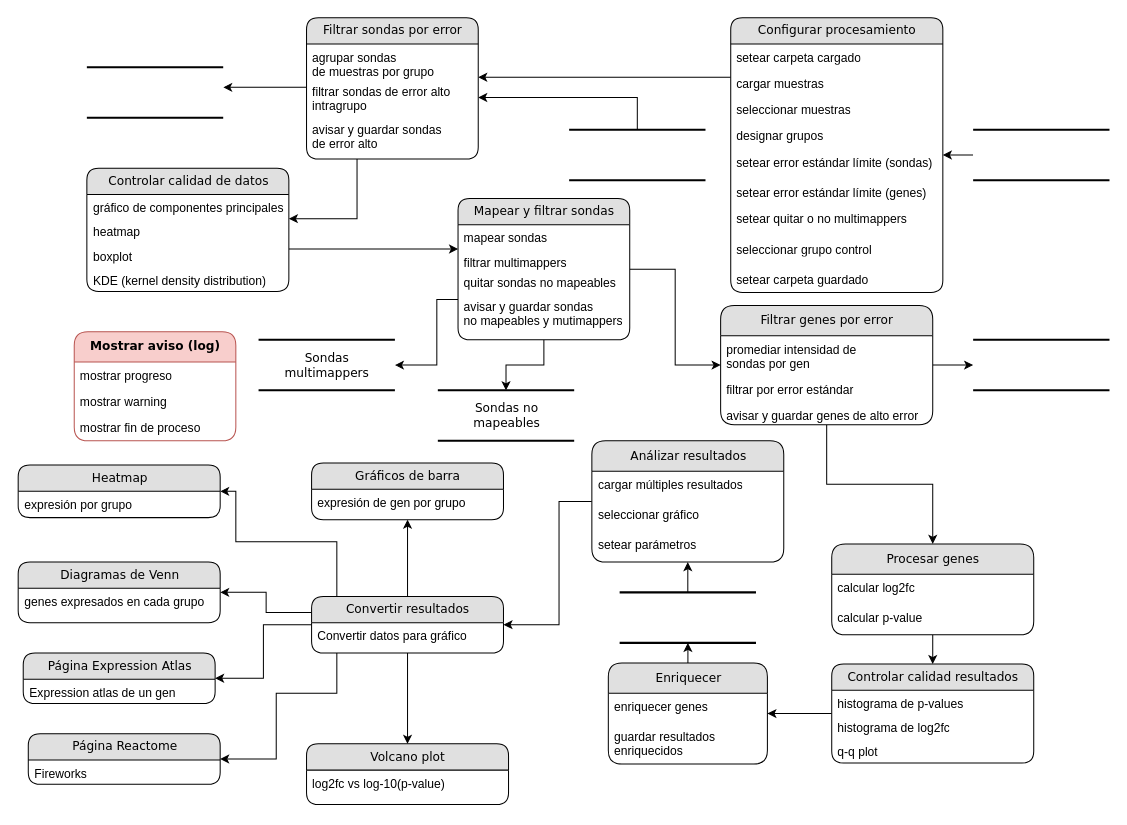
Image size: 1127x825. Some labels were removed from this diagram. The centre of each missing label's shape, as x and y in pixels:
Datos de muestras: (x=637, y=154)
Genes de alto error: (x=1041, y=364)
Metadatos de muestras: (x=1041, y=154)
Resultados enriquecidos: (x=687, y=617)
Sondas de error alto: (x=154, y=92)
